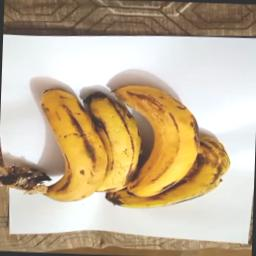Banana Unripe: (108, 82, 234, 205), (32, 83, 110, 206), (86, 84, 144, 208)
